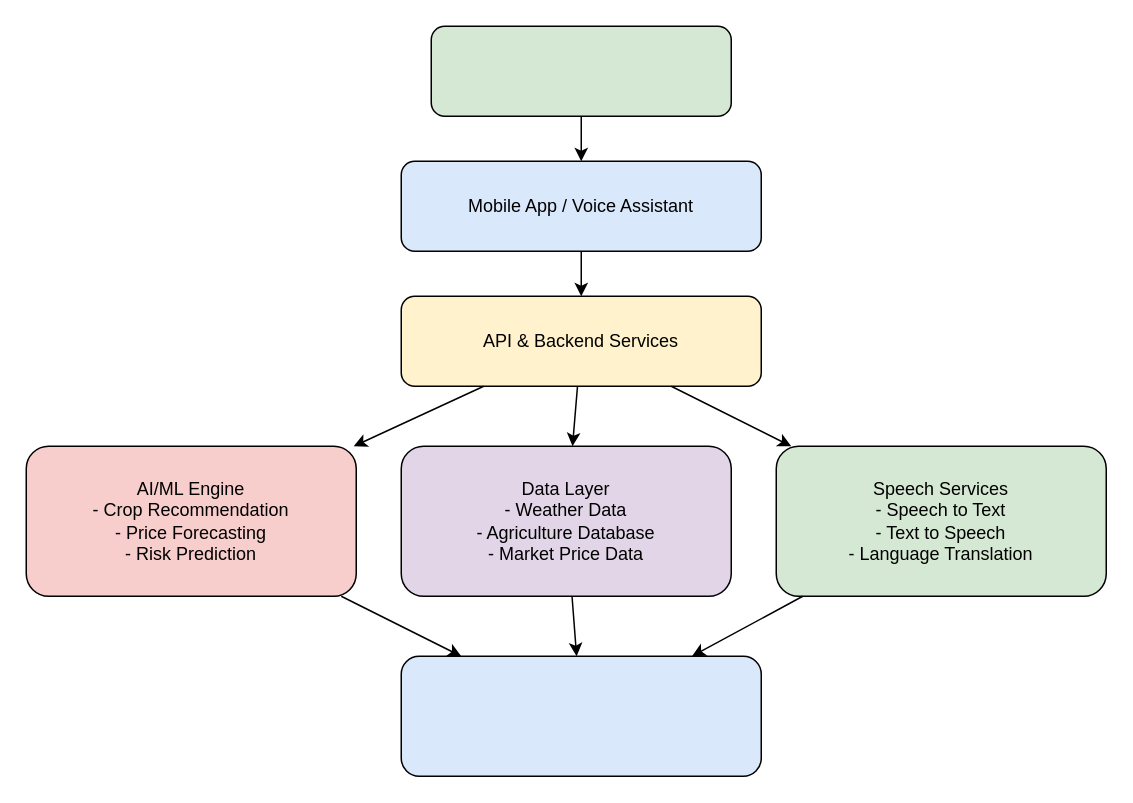
Image size: 1133x803. Some labels were removed from this diagram. The shapes that lost their labels are listed below. From the top down, each one's centre as x and y in pixels, then its label:
At (580,70): "Farmers / Rural Users".
At (580,715): "Cloud Infrastructure - Model Storage - Data Storage - Scalable Deployment".
